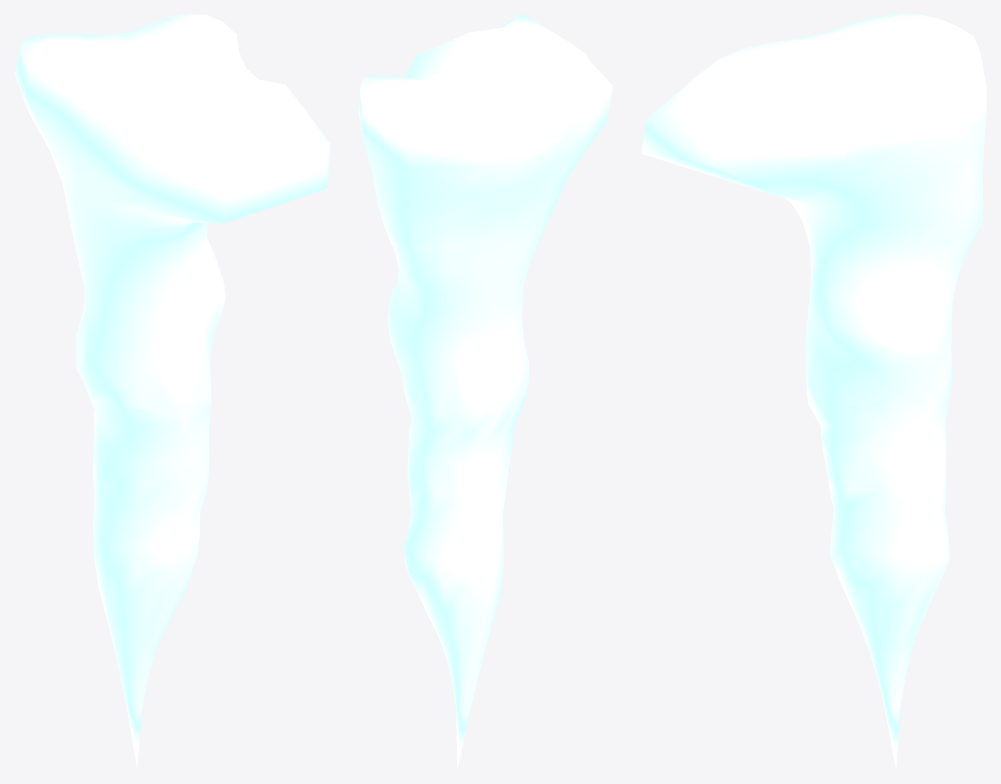
The model's file is icicle3-glowing.glb.
3 renders of one model, left to right at view 1: azimuth 30°, elevation 25°; view 2: azimuth 150°, elevation 25°; view 3: azimuth 270°, elevation 25°, orthographic. The views are drawn at different scales.
Parts seen in each view (by area): view 1: Cylinder.002; view 2: Cylinder.002; view 3: Cylinder.002.
Boxes of the visible parts, x1=… form: Cylinder.002: x1=14, y1=14, x2=330, y2=769; Cylinder.002: x1=359, y1=14, x2=612, y2=769; Cylinder.002: x1=641, y1=14, x2=986, y2=768.
Size of the model in its own units: 0.2544 by 0.8587 by 0.3752.
1 material, 1 textured.
